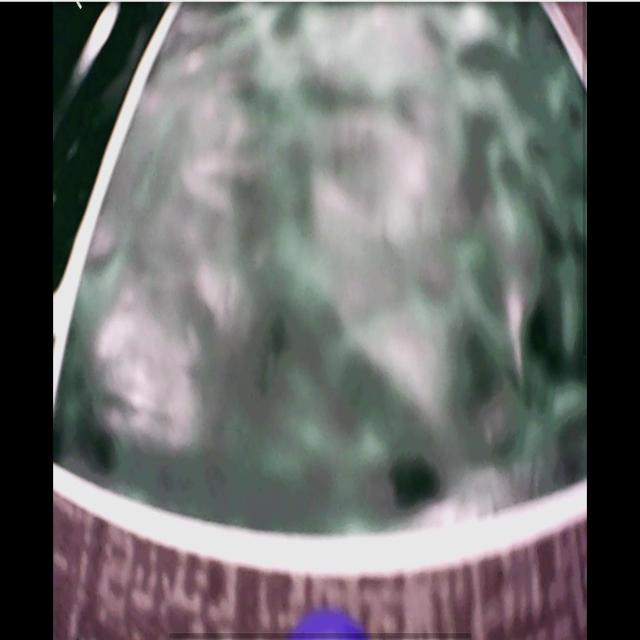ball: (291, 612, 365, 638)
